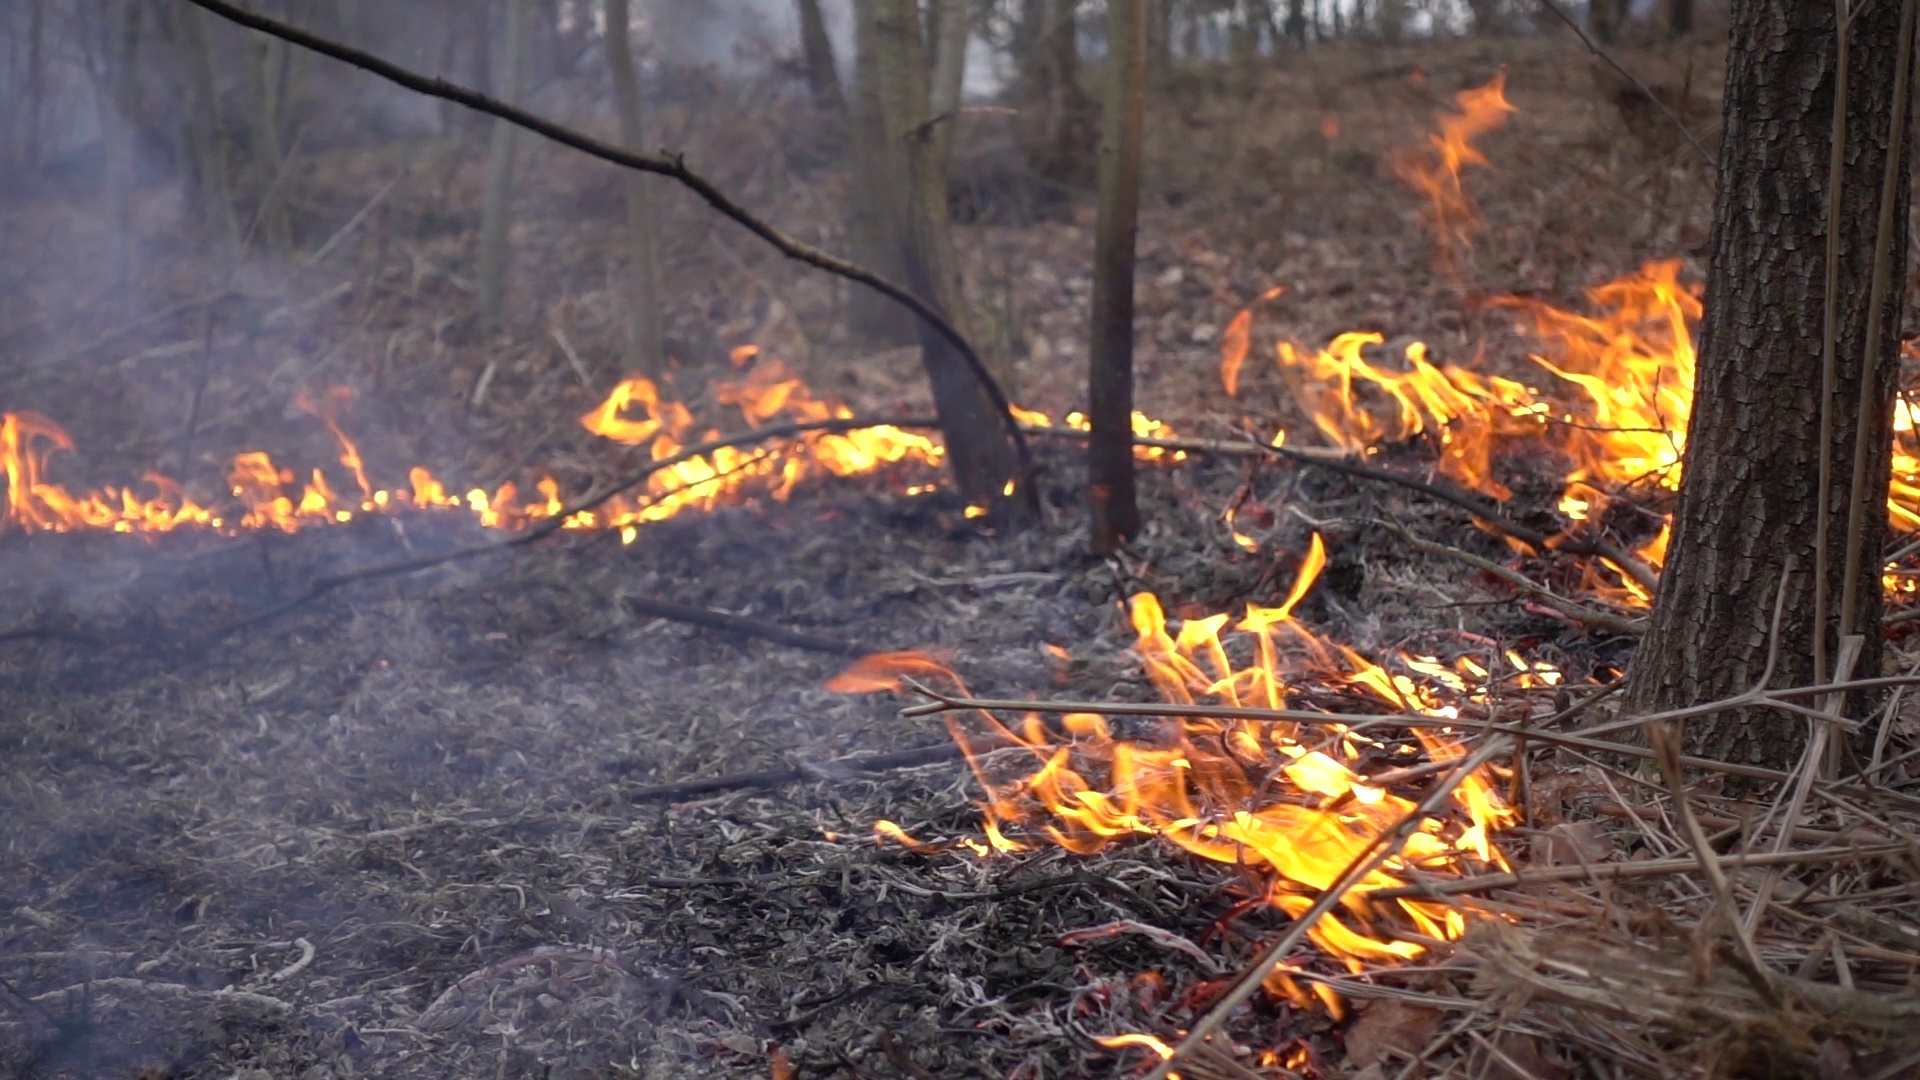fire: (964, 588, 1507, 984), (589, 384, 918, 517), (1545, 273, 1693, 521), (1288, 332, 1528, 469), (3, 415, 73, 531), (228, 448, 289, 526), (1892, 400, 1920, 522), (87, 491, 178, 527), (407, 468, 442, 506), (1134, 411, 1160, 446)
